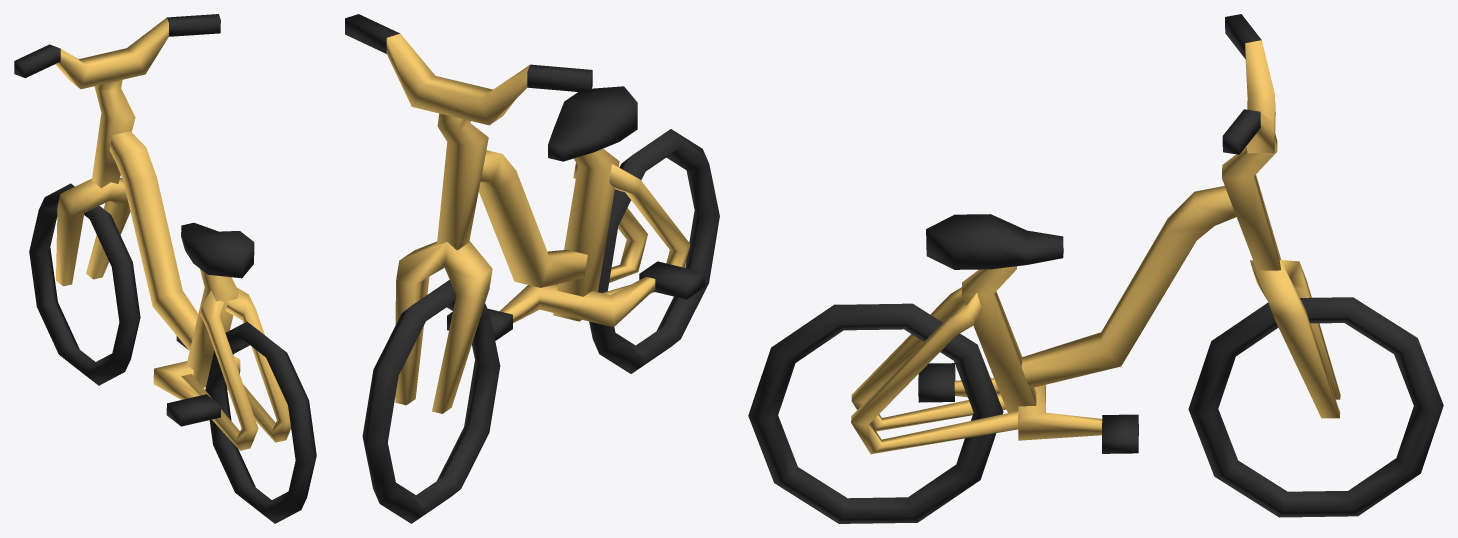
File: bicycle.FBX
3 views of the same model, side by side, from view 1: azimuth 30°, elevation 25°; view 2: azimuth 150°, elevation 25°; view 3: azimuth 270°, elevation 25° (orthographic). The views are drawn at different scales.
Visible parts, largest first — view 1: bicycle; view 2: bicycle; view 3: bicycle.
Part boxes in pixels (<box>): bicycle: <box>14,14,316,523</box>; bicycle: <box>345,14,719,523</box>; bicycle: <box>748,14,1443,523</box>.
Bounding box in the file's own units: 457 × 788 × 1099.
